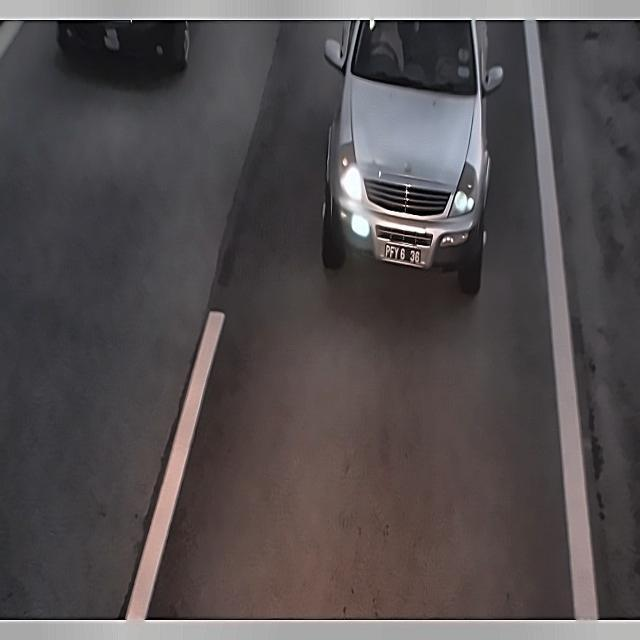car: (380, 237, 426, 268)
